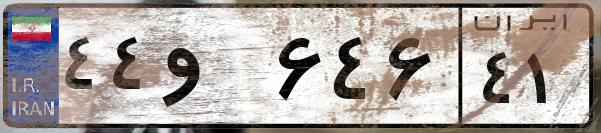1: (525, 38, 570, 115)
4: (330, 28, 385, 110), (57, 26, 110, 100), (475, 38, 525, 113), (110, 28, 158, 98)
6: (270, 28, 330, 110), (385, 28, 445, 110)
و: (158, 20, 270, 120)
